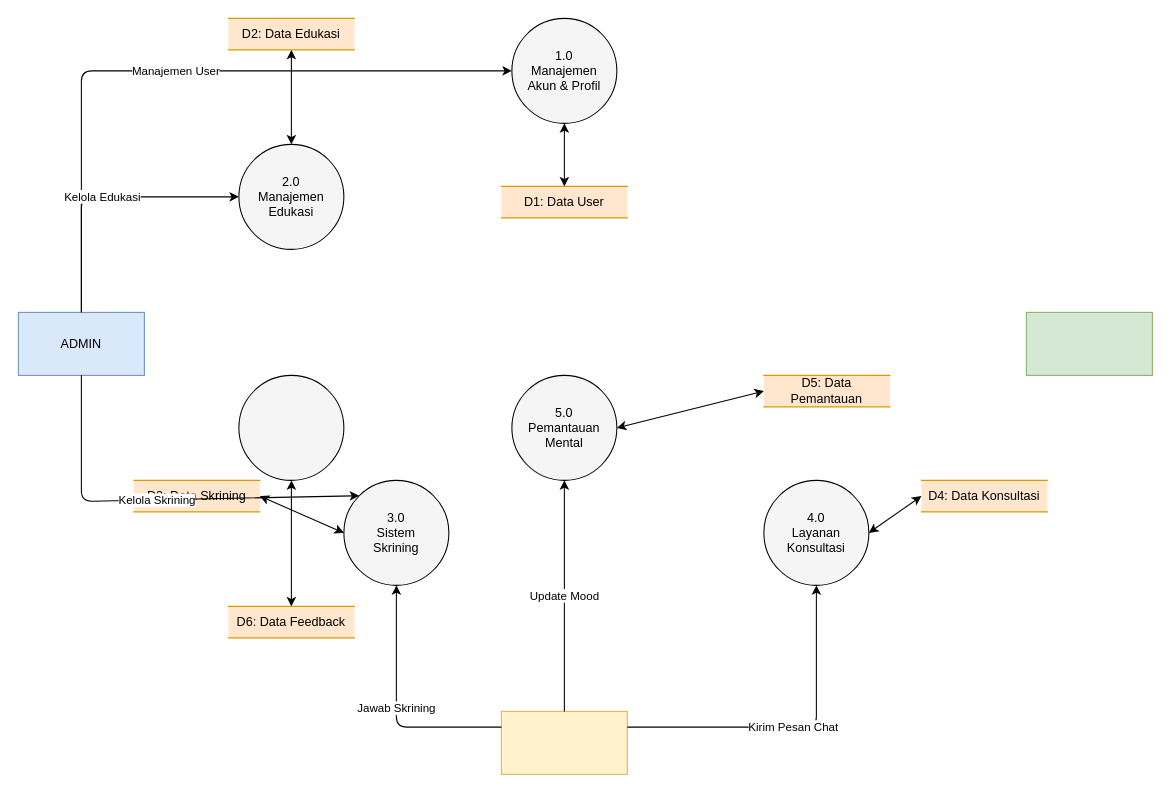
This 1171x793 diagram has some shape labels left out. The shapes that lost their labels are listed below. From the top down, each one's centre as x and y in pixels, then its label:
point 1088,343: PSIKOLOG
point 291,427: 6.0 Laporan & Saran
point 563,742: PASIEN
